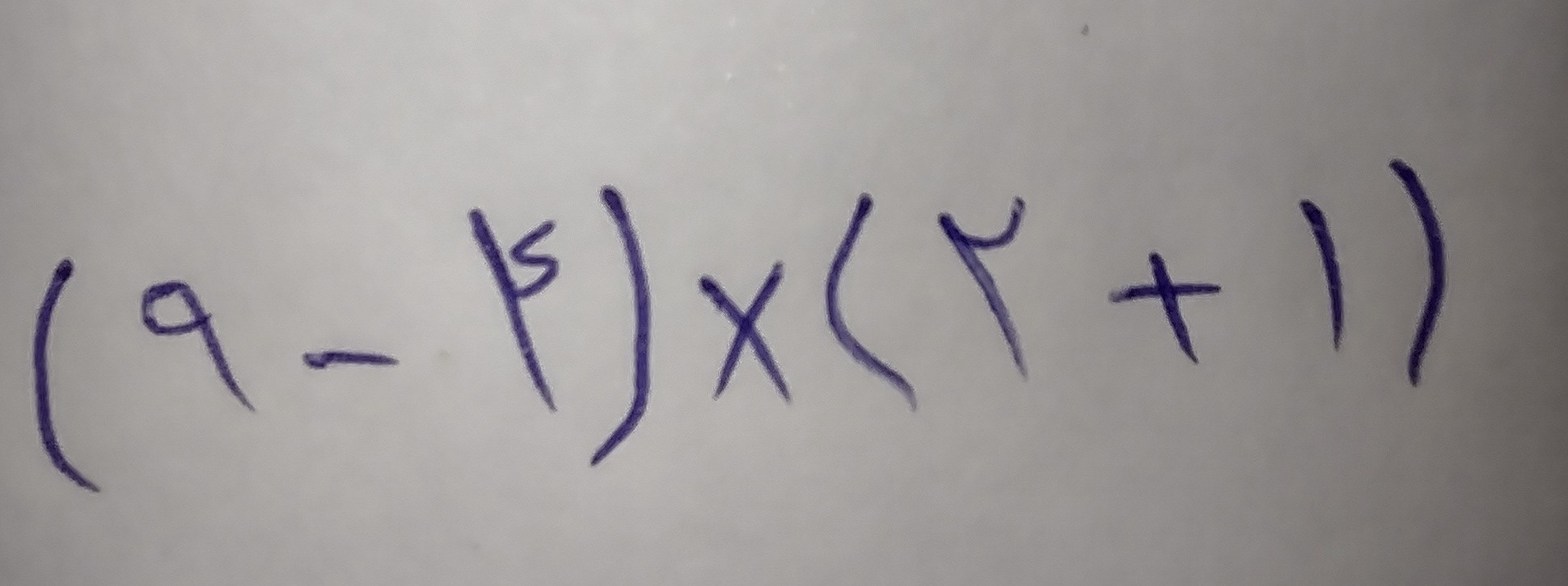character: (824, 191, 921, 411), (468, 208, 563, 412), (938, 195, 1035, 385), (592, 184, 652, 469), (33, 258, 102, 494), (140, 280, 259, 416), (697, 259, 794, 408), (1385, 158, 1449, 381), (1109, 251, 1224, 366), (1298, 197, 1346, 350), (298, 348, 398, 370)
